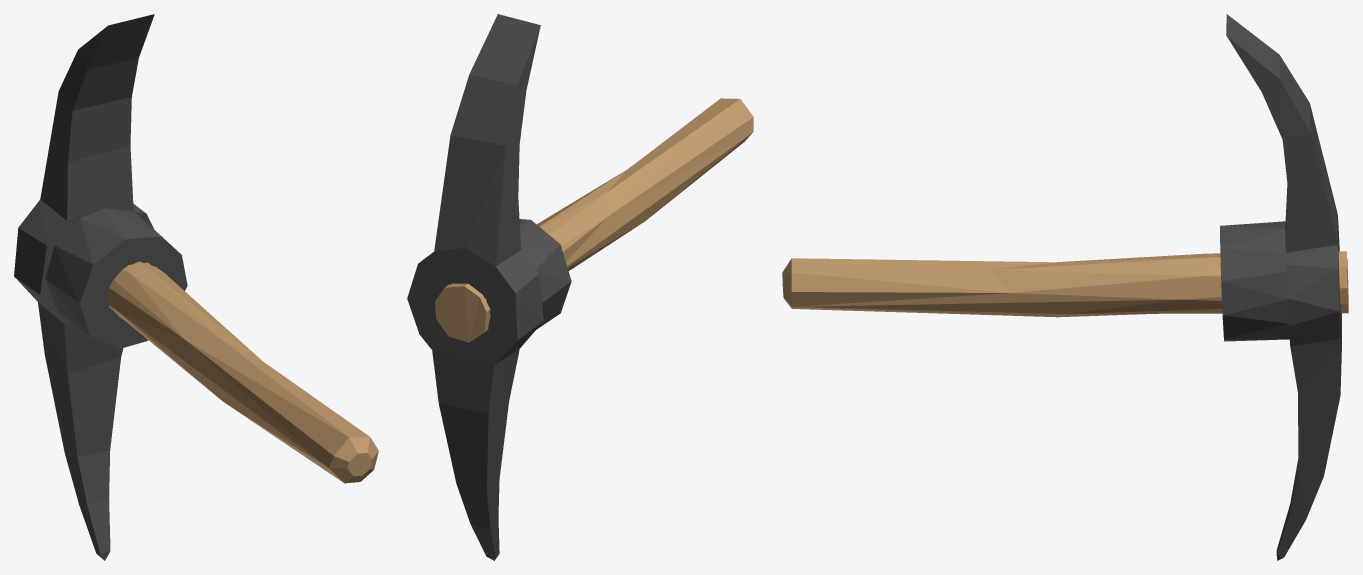
File: pickaxe.fbx
The picture shows the model from 3 angles, left to right: view 1: azimuth 30°, elevation 25°; view 2: azimuth 150°, elevation 25°; view 3: azimuth 270°, elevation 25°; orthographic projection. The views are drawn at different scales.
Parts seen in each view (by area): view 1: pickaxe; view 2: pickaxe; view 3: pickaxe.
Part boxes in pixels (x1,y1,x2,y2): pickaxe: [14, 14, 378, 560]; pickaxe: [407, 14, 753, 560]; pickaxe: [782, 14, 1348, 560].
Bounding box in the file's own units: 0.1189 × 0.5323 × 0.5093.
